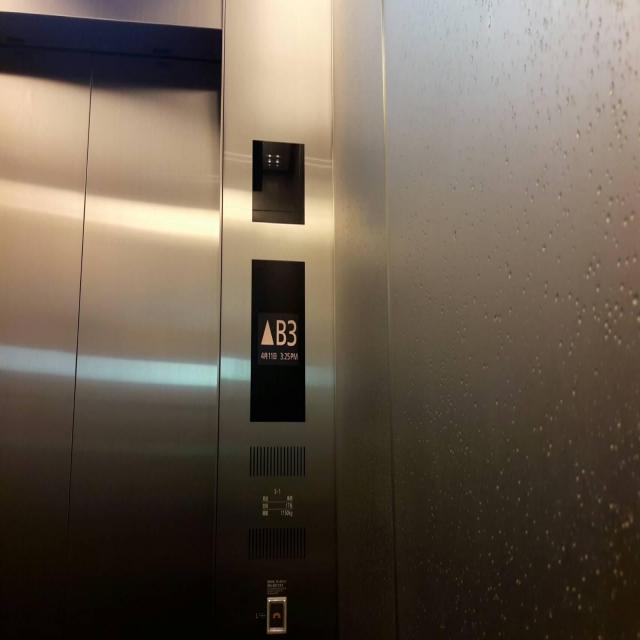call: (266, 596, 286, 632)
led: (246, 255, 308, 426), (248, 135, 306, 227)
